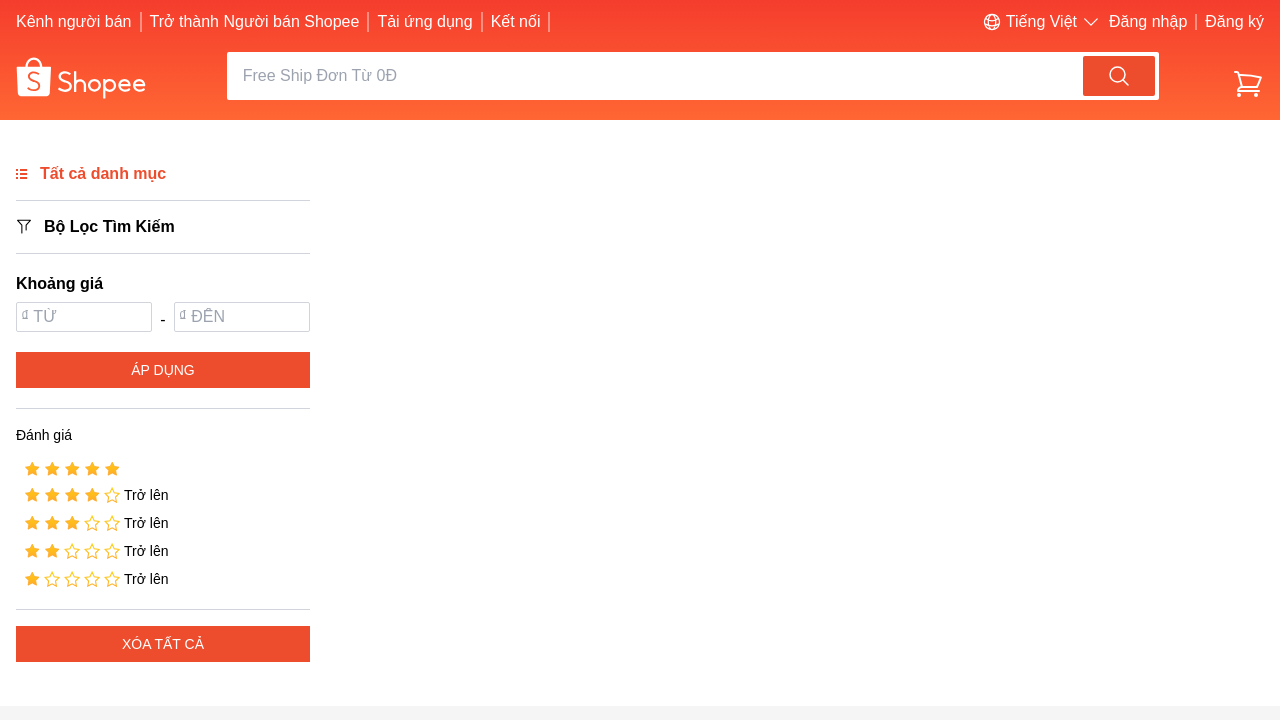
Test: App › App render va chuyen trang
Click the link "Đăng nhập".
click(1148, 22)  # box [1109,12,1187,32]
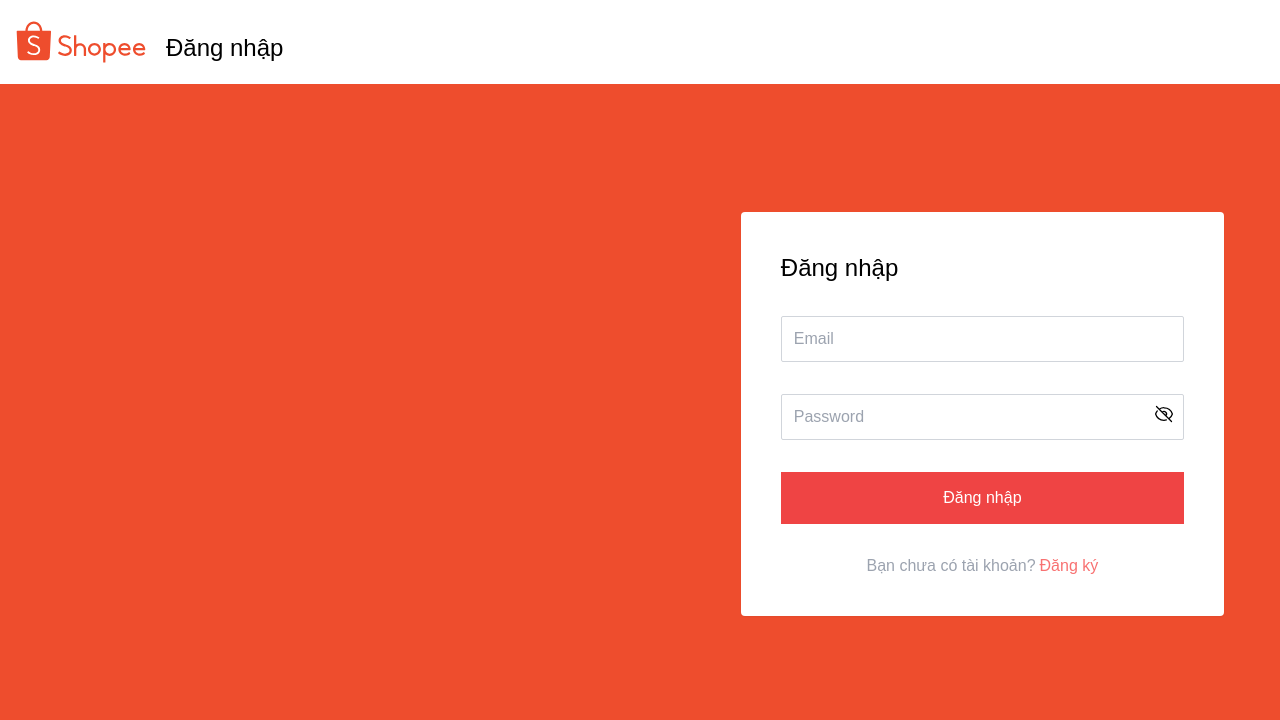
Expected: the text "Bạn chưa có tài khoản?" is shown, [866,556,1036,576]
